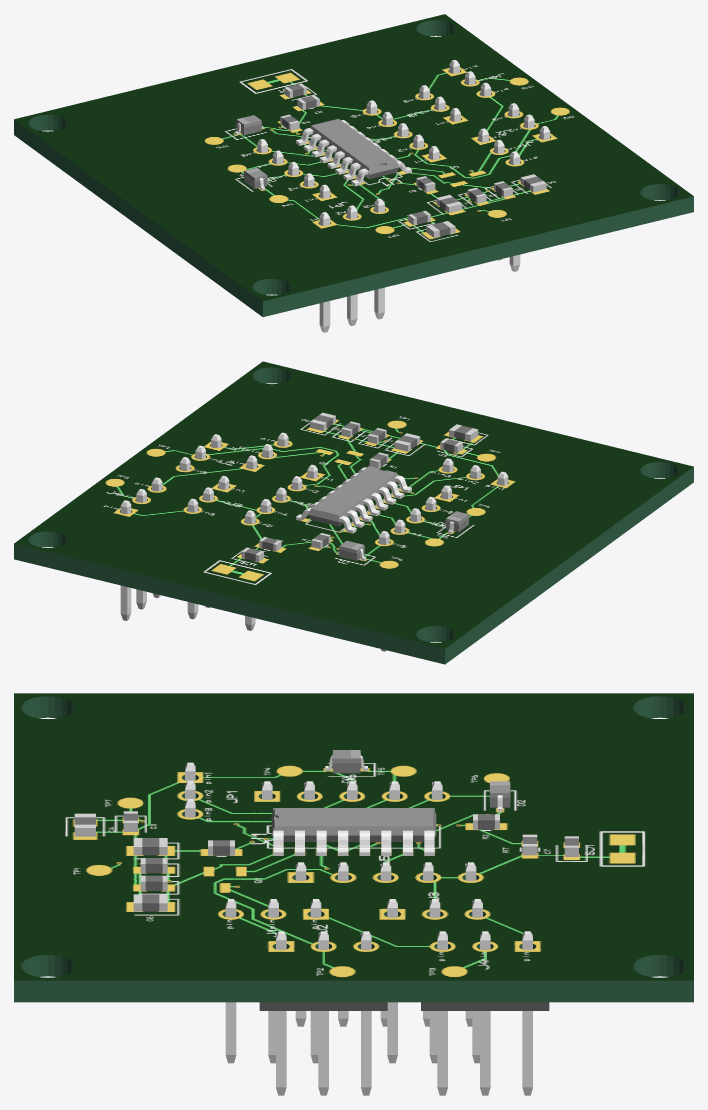
File: board.gltf
3 views of the same model, one above another, from view 1: azimuth 30°, elevation 25°; view 2: azimuth 150°, elevation 25°; view 3: azimuth 270°, elevation 25° (orthographic). The views are drawn at different scales.
Visible parts, largest first — view 1: Box0, U1, JP1, J5, J6, J1; view 2: Box0, U1, J4, J5, J6, J3; view 3: Box0, U1, J2, J4, J1, J3, J5, J6, D1, C6, C1.
Boxes of the visible parts, x1,y1,x2,y2 form: Box0: (14,14,693,316); U1: (296,118,411,186); JP1: (319,198,384,332); J5: (366,100,439,159); J6: (257,139,330,198); J1: (478,128,520,271); Box0: (14,361,693,664); U1: (296,466,411,533); J4: (120,477,162,620); J5: (245,464,317,630); J6: (379,485,451,651); J3: (187,475,229,619); Box0: (14,693,693,1002); U1: (271,808,436,855); J2: (259,931,387,1095); J4: (421,931,549,1095); J1: (225,899,321,1063); J3: (387,899,482,1063); J5: (295,862,476,1026); J6: (262,781,442,799); D1: (325,750,367,773); C6: (133,894,167,911); C1: (133,838,167,855).
Size of the model in its own units: 40 by 10.88 by 40.
Materials: 9 (2 with a texture image).
